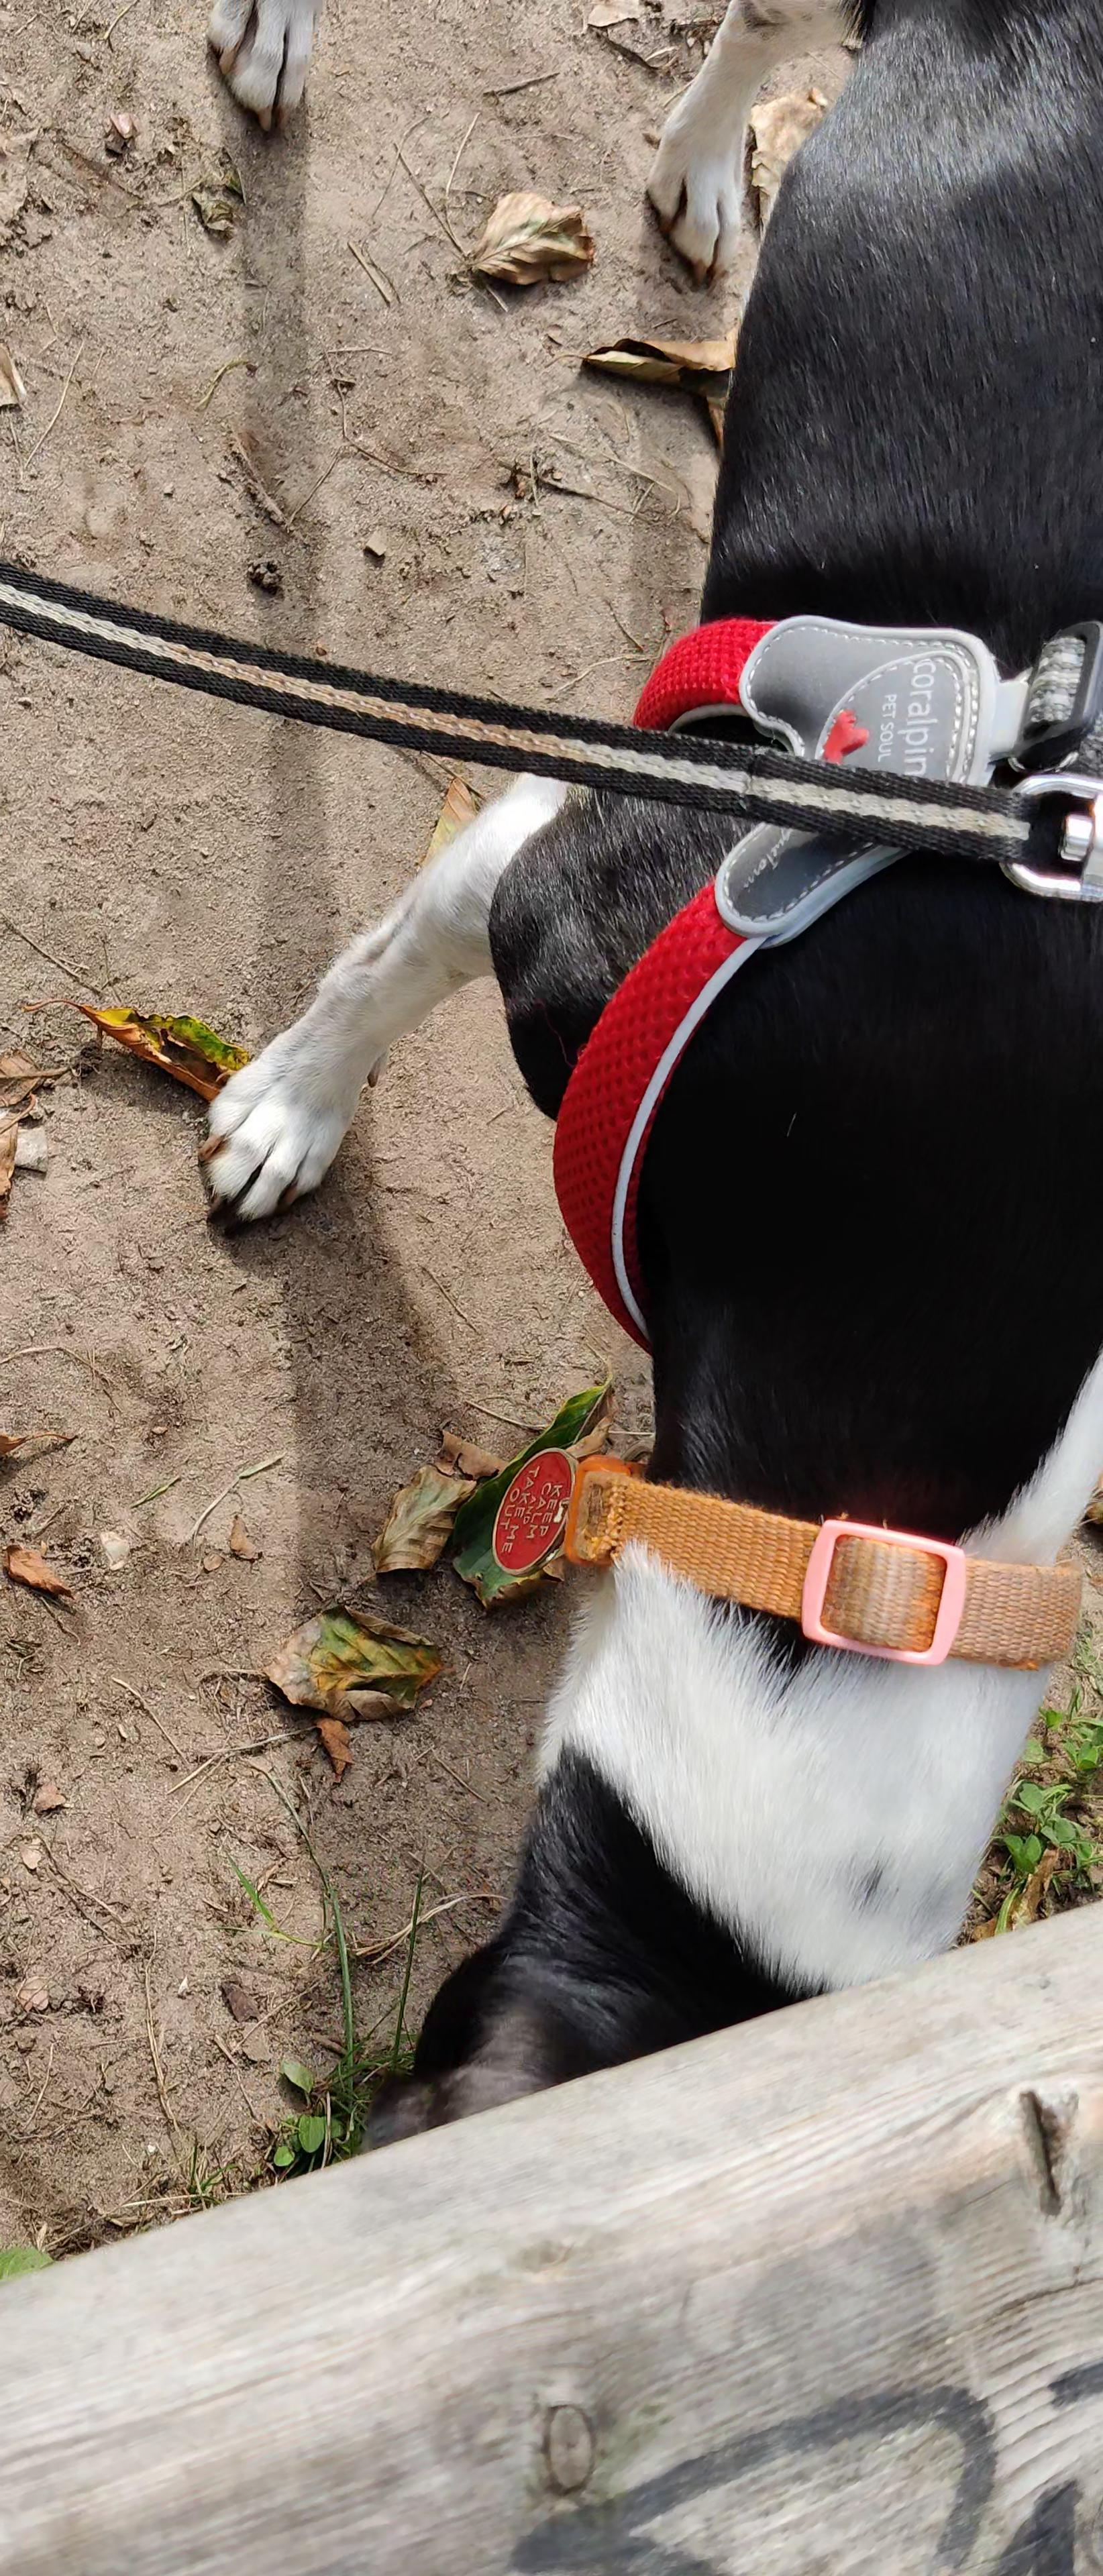Dog: (182, 0, 1103, 2192)
